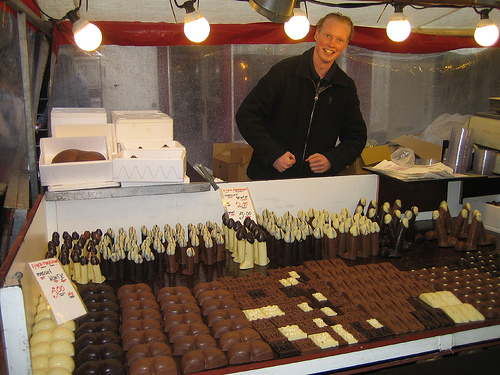without_mask: (312, 11, 354, 65)
